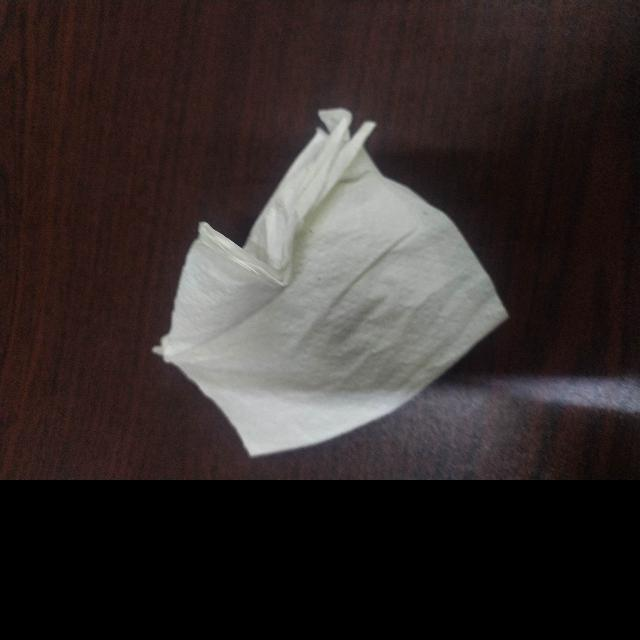kitchen paper: (145, 98, 517, 470)
